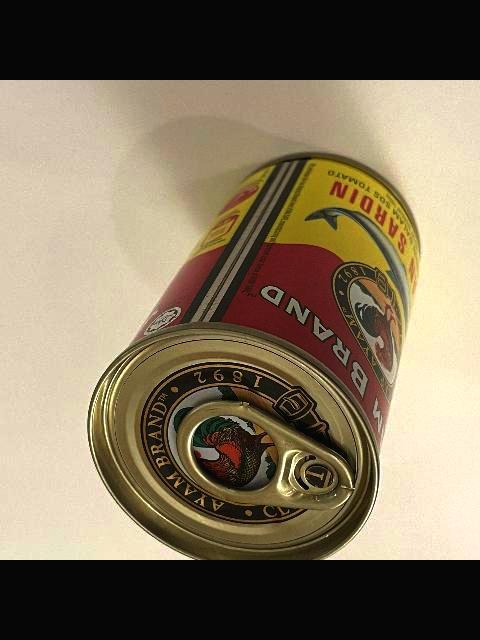foodcan: (85, 150, 424, 560)
